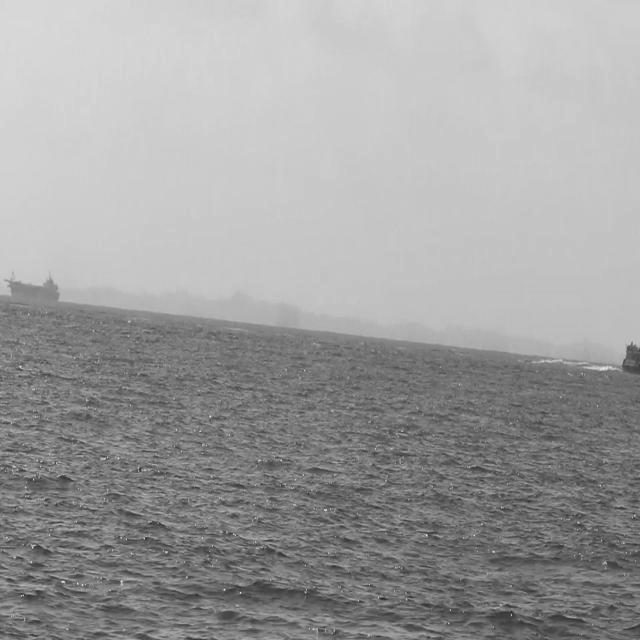ship: (8, 269, 62, 305), (616, 330, 640, 376)
